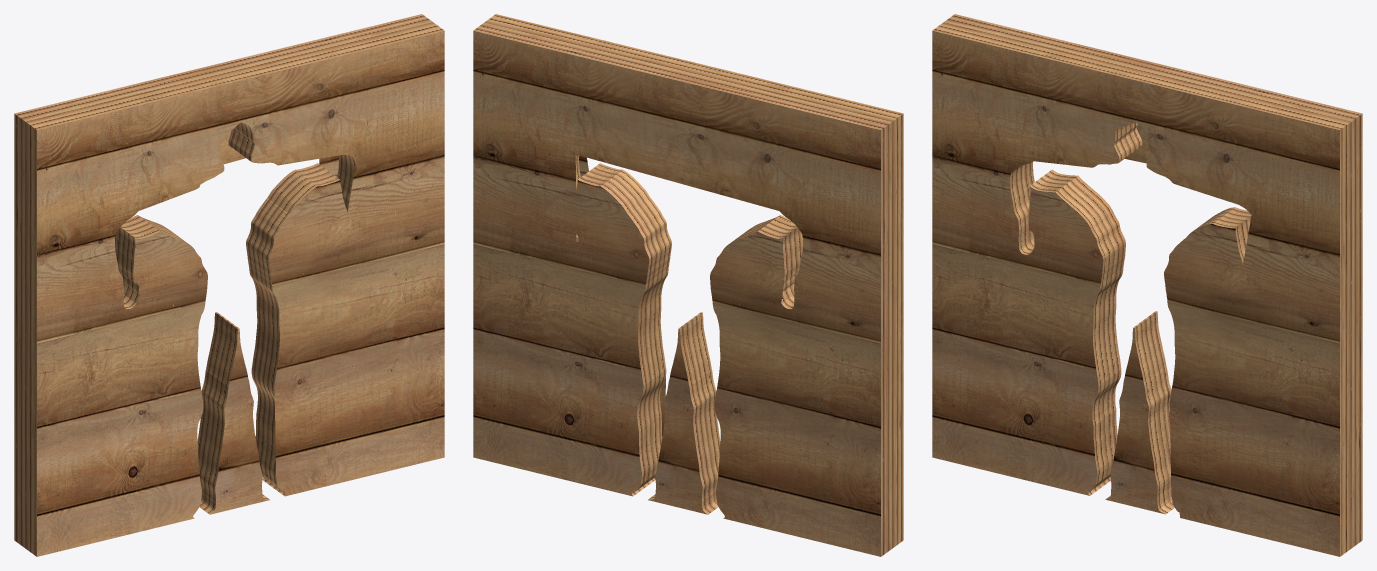
The model's file is touchdown down.FBX.
The picture shows the model from 3 angles, left to right: view 1: azimuth 30°, elevation 25°; view 2: azimuth 150°, elevation 25°; view 3: azimuth 330°, elevation 25°; orthographic projection.
Parts seen in each view (by area): view 1: Object001; view 2: Object001; view 3: Object001.
Part boxes in pixels (bbox=[...]): Object001: bbox=[14, 14, 444, 556]; Object001: bbox=[473, 14, 903, 556]; Object001: bbox=[932, 14, 1362, 556].
Bounding box in the file's own units: 2 × 2 × 0.1933.
1 material, 1 textured.
